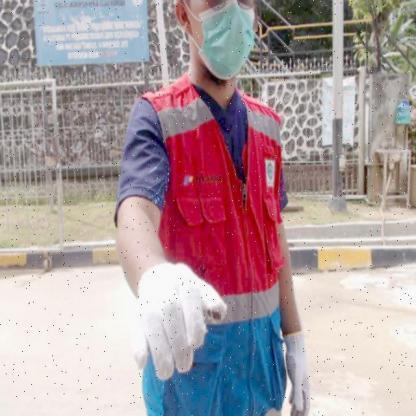gloves: (120, 262, 226, 378), (285, 323, 319, 415)
mask: (194, 2, 258, 84)
